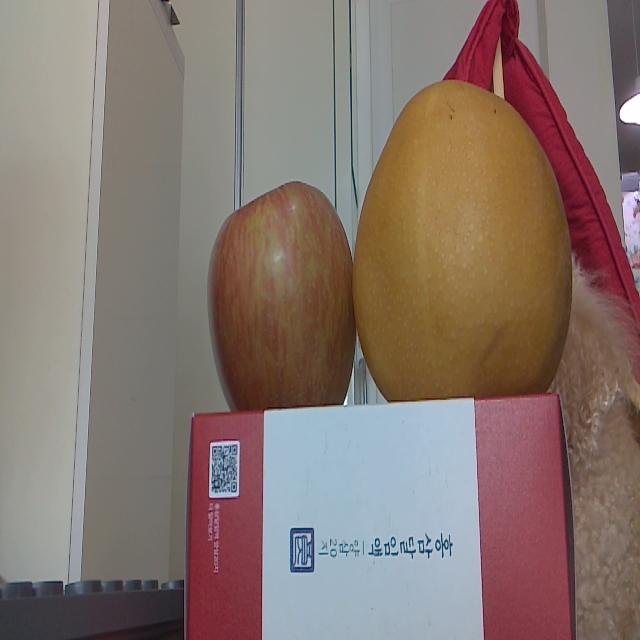apple: (205, 178, 355, 410)
pear: (350, 76, 575, 403)
